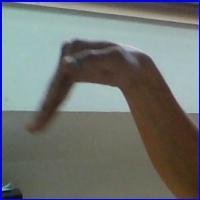del: (31, 34, 159, 146)
